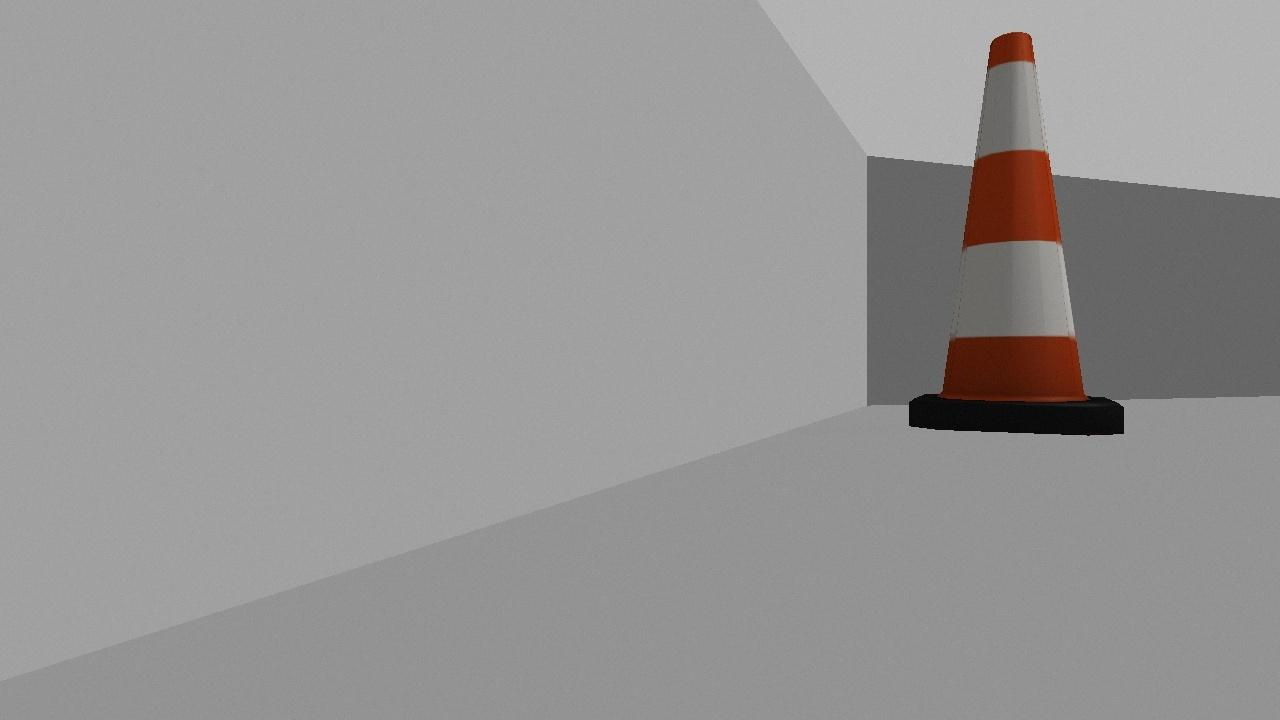cone_barrel: (906, 30, 1123, 433)
